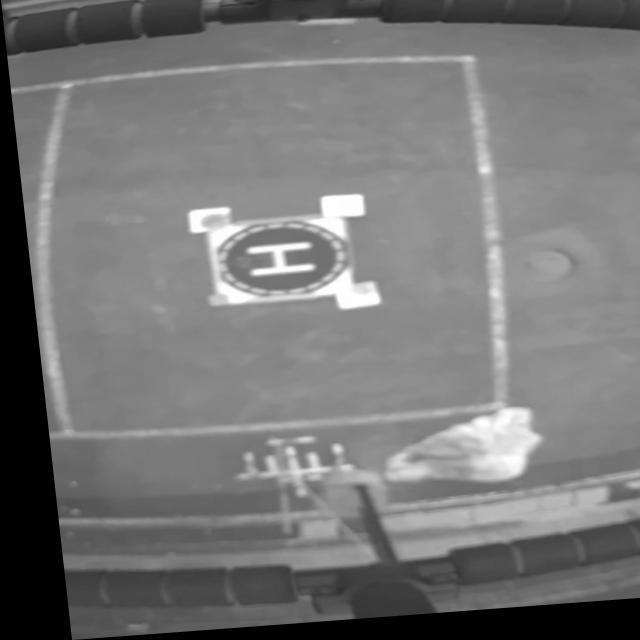Helipad: (240, 246, 309, 279)
